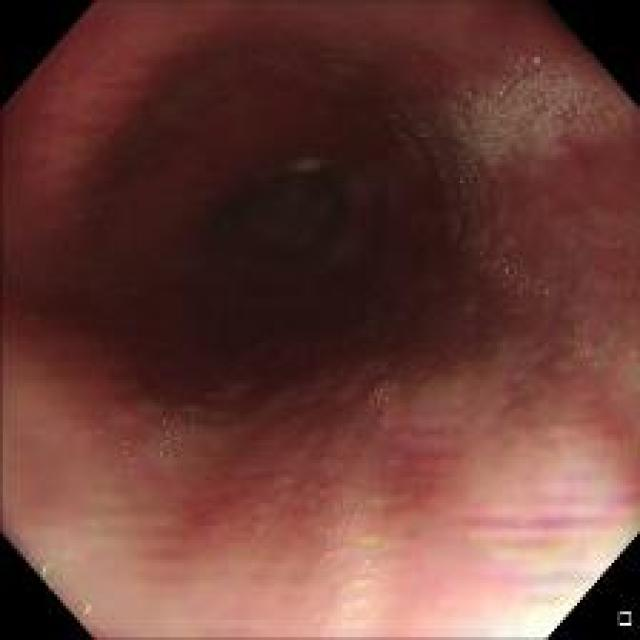bubbles: (445, 71, 625, 170), (368, 375, 398, 411)
color misalignment: (120, 408, 198, 472), (348, 488, 380, 636), (574, 320, 635, 391), (499, 260, 552, 294), (451, 79, 511, 104)
contrast: (130, 116, 404, 330)
saturation: (461, 509, 629, 634)
